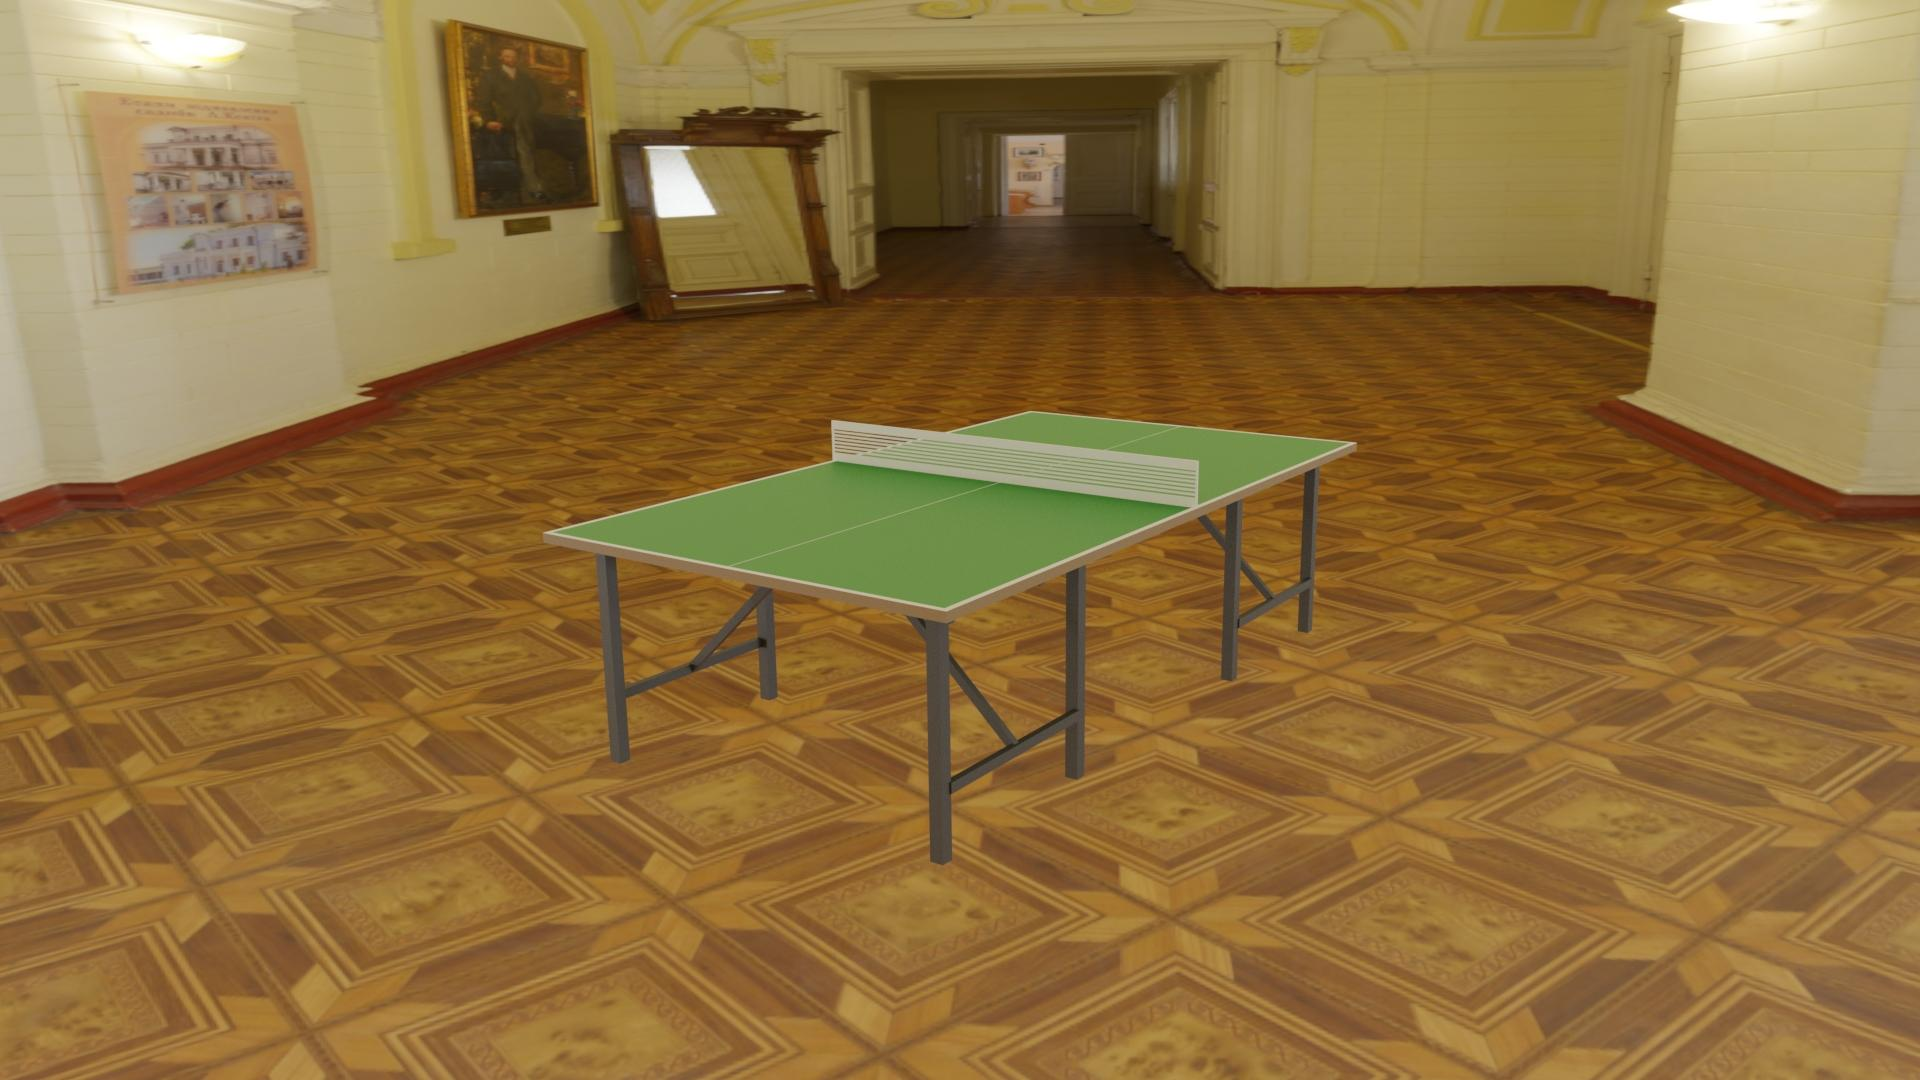table: (553, 413, 1350, 608)
